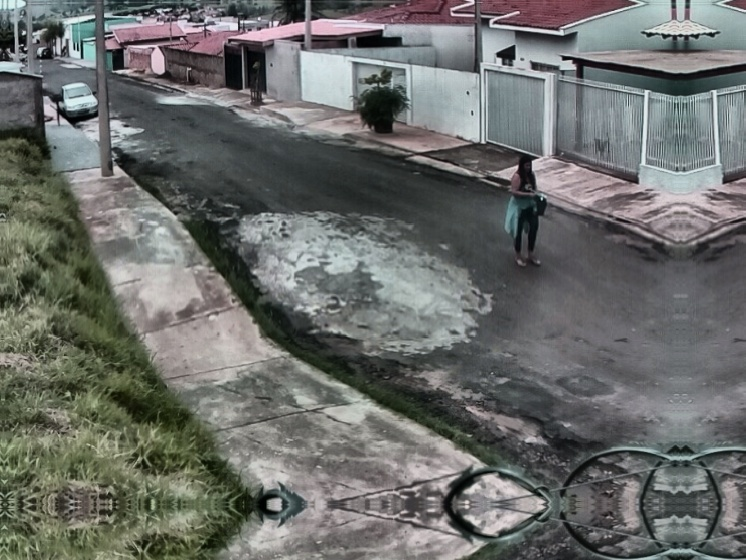person: (506, 154, 550, 272)
